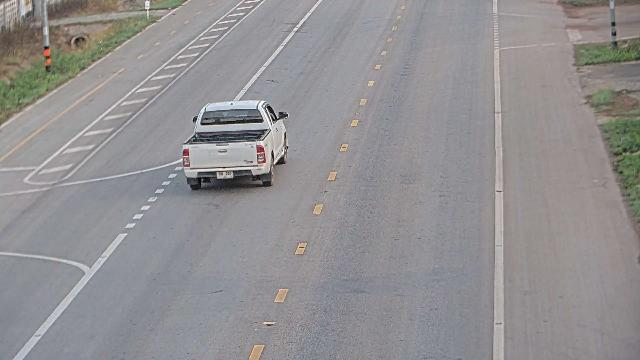pickup-truck: (181, 99, 289, 190)
